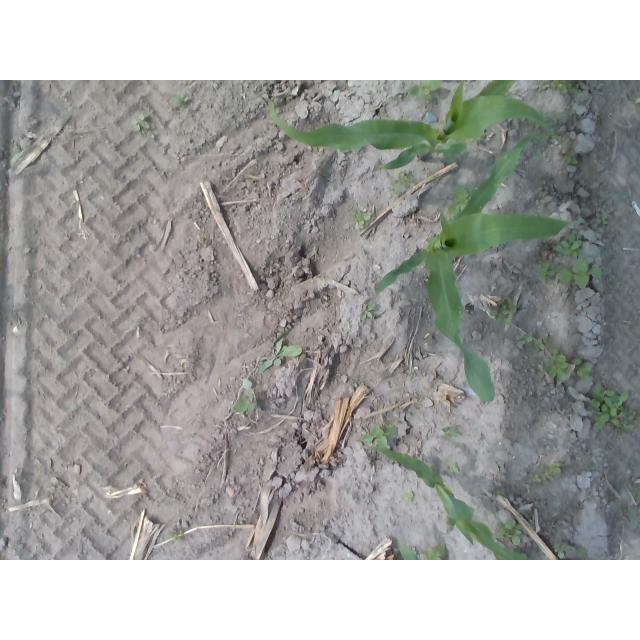Maize: (375, 131, 572, 403), (267, 80, 561, 173), (366, 444, 534, 561), (394, 534, 427, 560)
Weeds: (590, 384, 640, 436), (555, 258, 602, 291), (259, 339, 302, 373), (362, 420, 398, 449), (540, 349, 569, 384), (445, 184, 476, 216), (488, 295, 517, 326), (493, 518, 523, 546), (554, 231, 585, 258), (407, 81, 442, 104), (529, 461, 564, 483), (554, 540, 587, 560), (130, 113, 155, 139), (389, 170, 416, 194), (232, 392, 260, 413), (540, 80, 580, 93), (572, 358, 593, 382), (533, 260, 555, 282), (349, 209, 372, 229), (424, 544, 446, 560), (440, 423, 460, 440), (360, 302, 376, 320), (561, 151, 577, 169), (531, 337, 550, 352), (515, 331, 533, 346), (166, 530, 184, 542), (171, 93, 189, 104), (445, 461, 459, 475), (594, 212, 607, 225), (404, 492, 416, 505), (624, 508, 637, 520), (629, 458, 640, 471), (242, 378, 253, 389), (631, 94, 640, 103), (634, 489, 640, 502), (198, 235, 205, 243), (494, 491, 501, 498), (264, 125, 269, 132), (590, 466, 596, 471)
